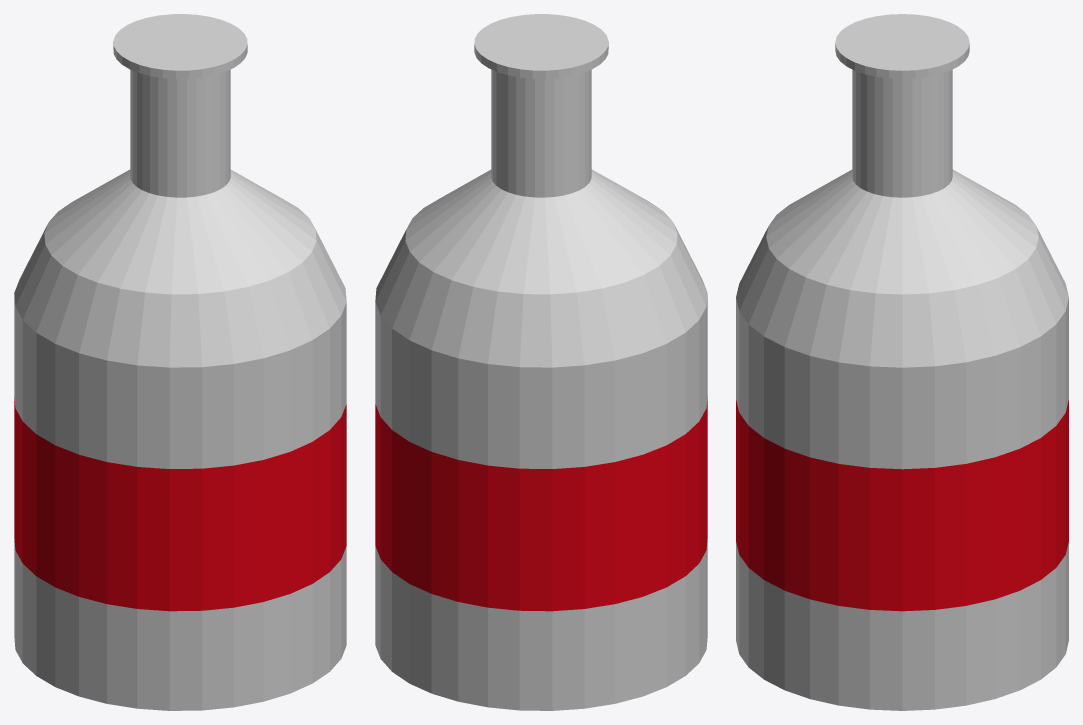
Rendered from chemGlass.glb.
The picture shows the model from 3 angles, left to right: view 1: azimuth 30°, elevation 25°; view 2: azimuth 150°, elevation 25°; view 3: azimuth 270°, elevation 25°; orthographic projection.
Visible parts, largest first — view 1: Cylinder; view 2: Cylinder; view 3: Cylinder.
Part boxes in pixels (<box>): Cylinder: <box>14,14,346,710</box>; Cylinder: <box>375,14,707,710</box>; Cylinder: <box>736,14,1068,710</box>.
Size of the model in its own units: 0.103 by 0.2042 by 0.103.
